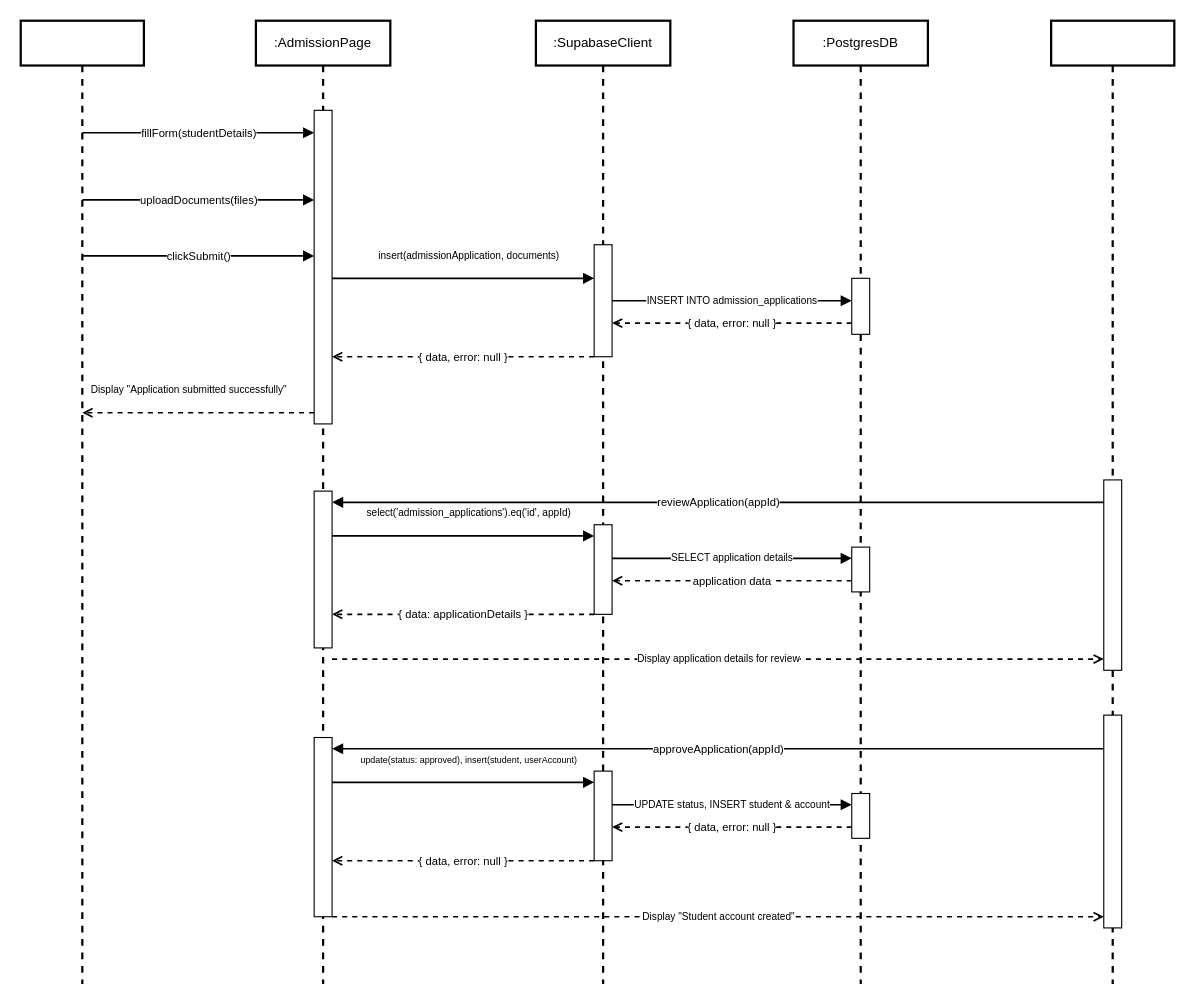
This 1194x1004 diagram has some shape labels left out. The box of each missing label's shape, as (x1, y1, x2, y2) in pixels:
Admin: (1049, 19, 1175, 984)
Applicant: (19, 19, 144, 984)
